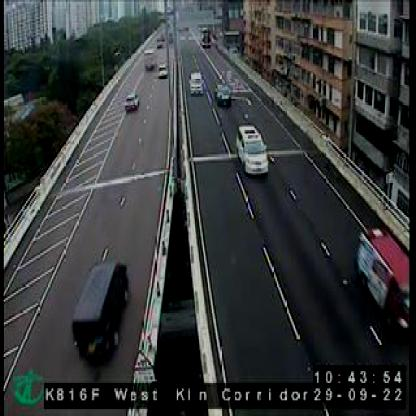Car: (354, 222, 414, 341), (69, 255, 126, 367), (232, 122, 276, 178), (124, 87, 139, 116), (213, 80, 229, 106), (190, 69, 203, 99), (157, 62, 168, 82)
